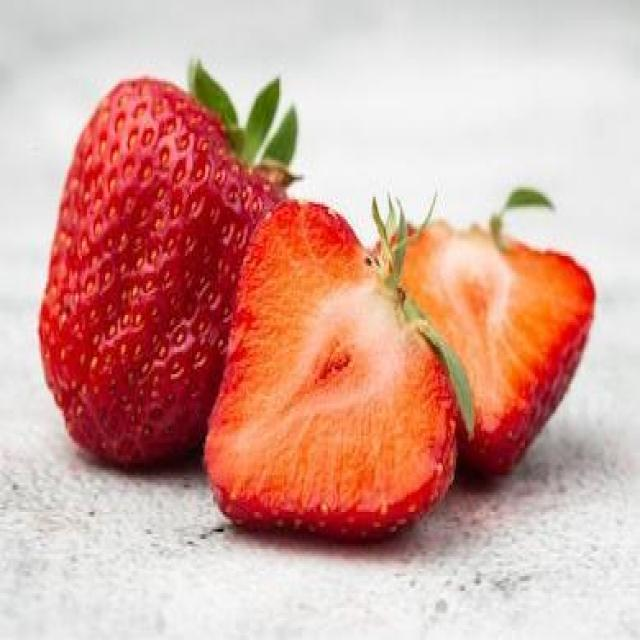strawberry: (248, 198, 449, 545), (34, 72, 206, 467), (449, 218, 603, 487)
